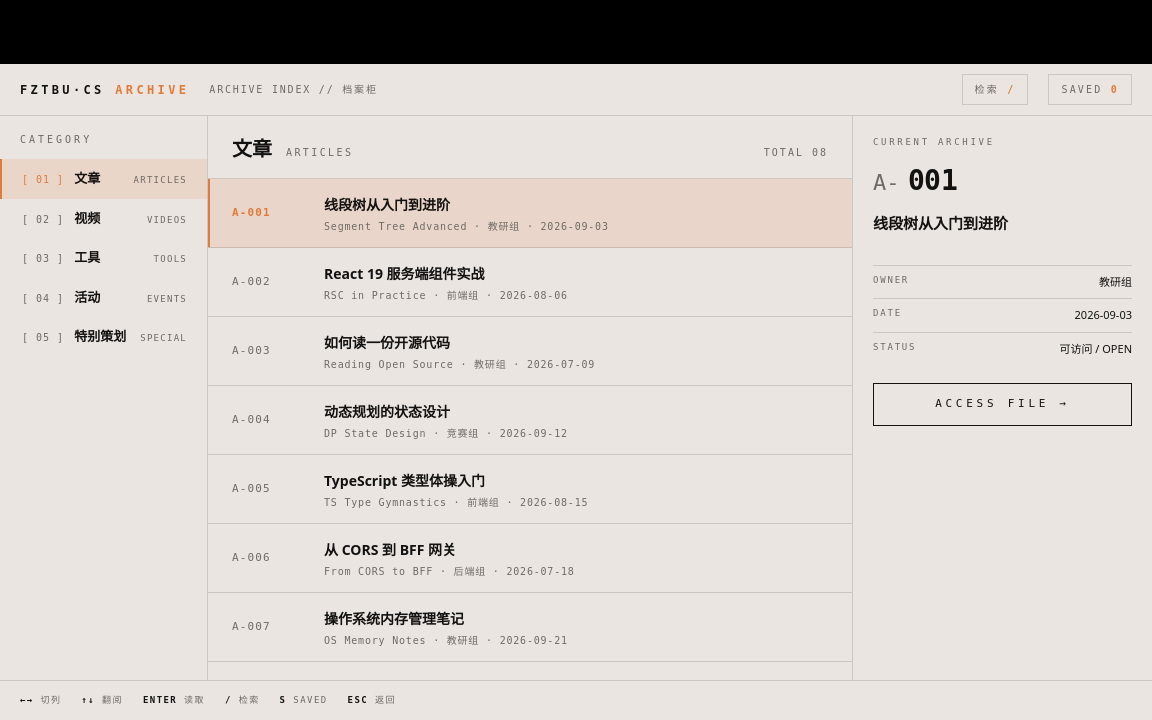
it: ArchiveIndex › / 打开检索，输入关键词过滤，Enter 跳转对应详情
Press /
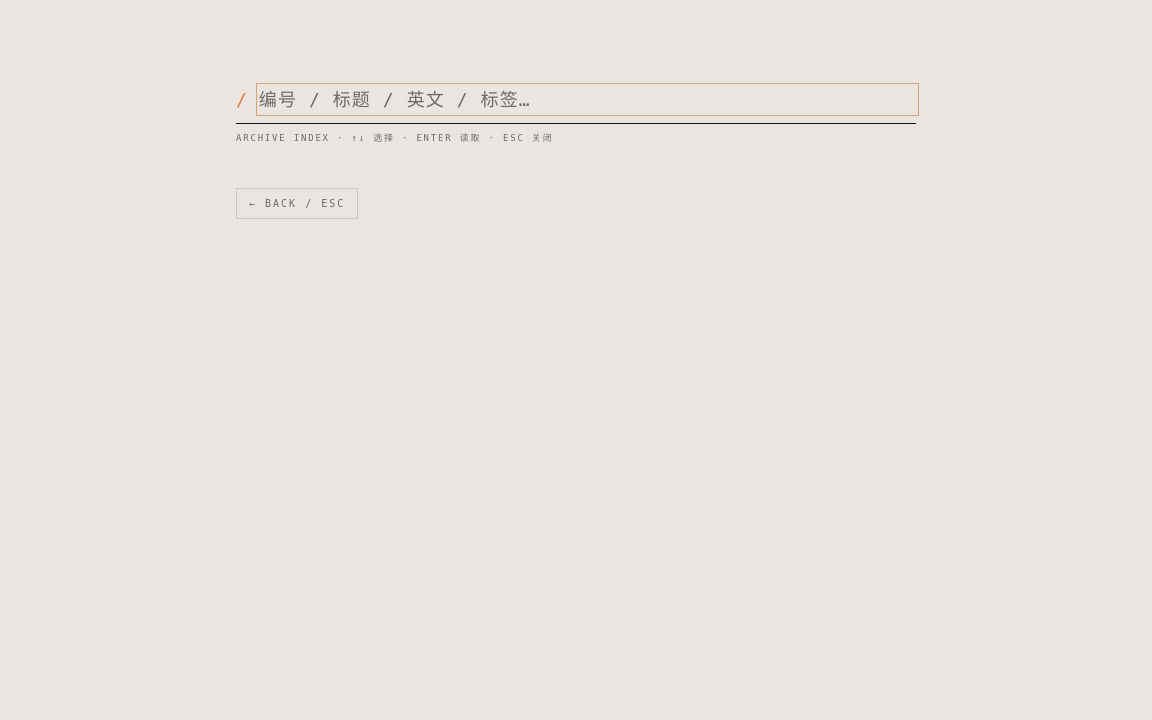
Type "Git" into the field named "检索档案" at (587, 100), box top-left (259, 86), bottom-right (916, 113)
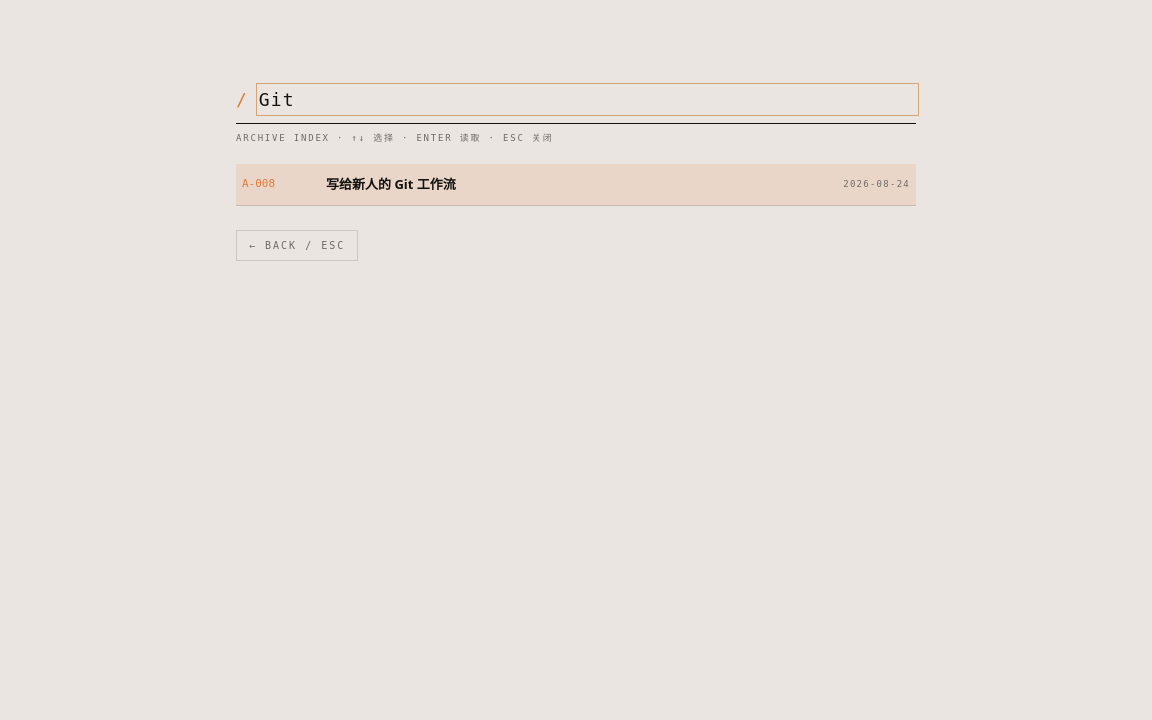
Now the text "写给新人的 Git 工作流" is shown, box top-left (326, 175), bottom-right (456, 193)
Press Enter
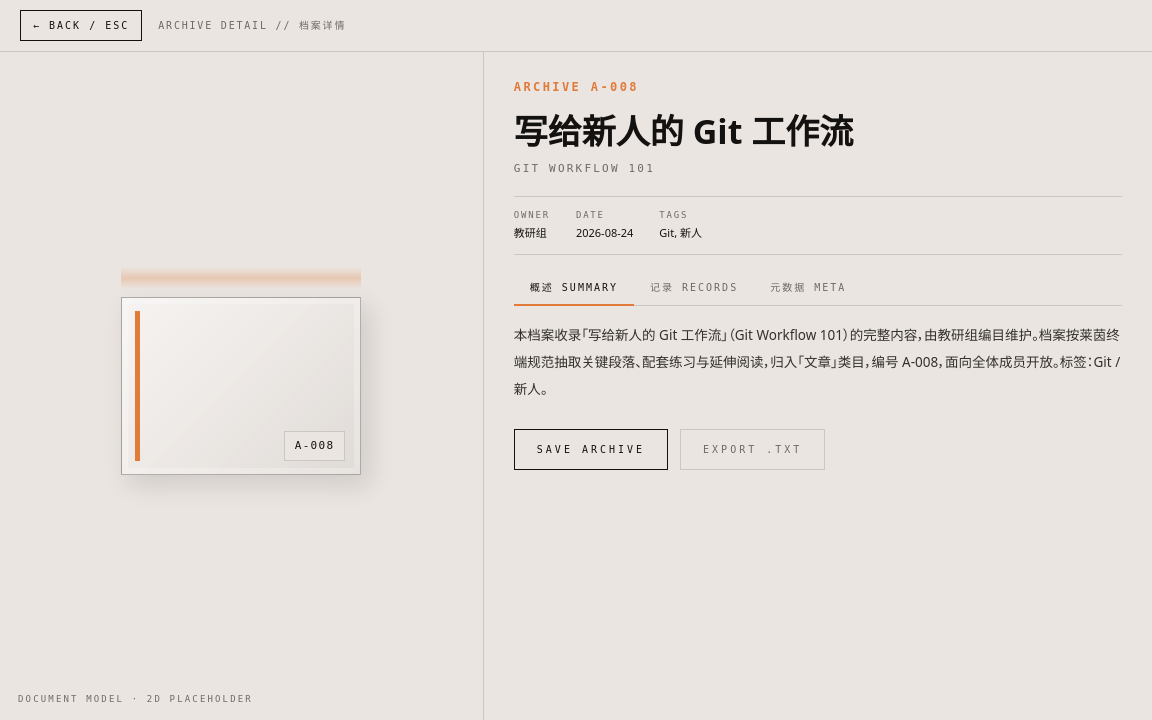
Now the dialog "档案详情 A-008" is shown
